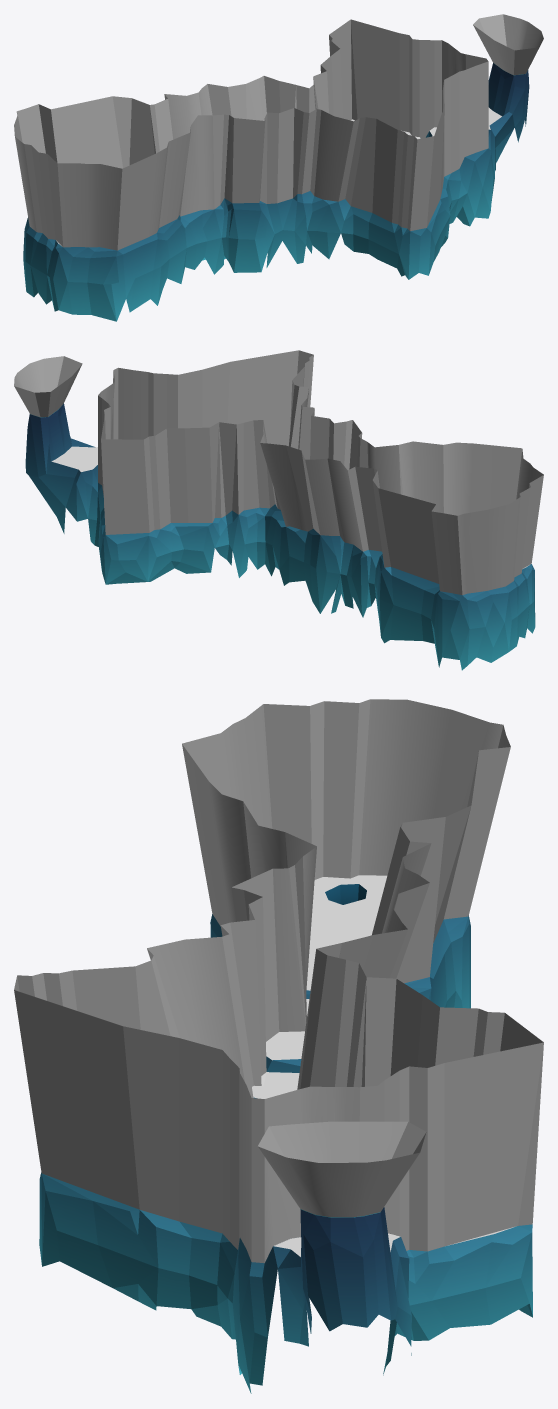
The model's file is MOD_Level1_Versie4.fbx.
3 views of the same model, one above another, from view 1: azimuth 30°, elevation 25°; view 2: azimuth 150°, elevation 25°; view 3: azimuth 270°, elevation 25° (orthographic). The views are drawn at different scales.
Parts seen in each view (by area): view 1: MOD_Level1_Boundary, MOD_Level1_Crystal; view 2: MOD_Level1_Boundary, MOD_Level1_Crystal, MOD_Level1_Floor; view 3: MOD_Level1_Boundary, MOD_Level1_Crystal, MOD_Level1_Floor.
Boxes of the visible parts, left/top/right/bottom form: MOD_Level1_Boundary: left=14, top=14, right=543, bottom=250; MOD_Level1_Crystal: left=23, top=63, right=529, bottom=321; MOD_Level1_Boundary: left=14, top=350, right=543, bottom=595; MOD_Level1_Crystal: left=25, top=403, right=535, bottom=670; MOD_Level1_Floor: left=51, top=446, right=529, bottom=568; MOD_Level1_Boundary: left=14, top=699, right=543, bottom=1263; MOD_Level1_Crystal: left=39, top=914, right=532, bottom=1393; MOD_Level1_Floor: left=252, top=875, right=513, bottom=1256.
Bounding box in the file's own units: 0.2091 × 0.0656 × 0.101.
Materials: 4 (2 with a texture image).
